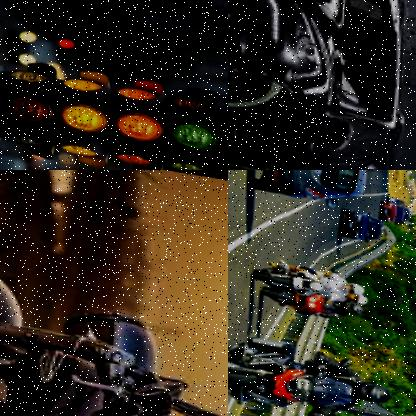bike: (0, 247, 228, 416), (228, 323, 353, 416), (246, 255, 342, 308), (252, 285, 338, 319)
car: (228, 0, 416, 170), (240, 170, 374, 207), (334, 203, 387, 241), (377, 196, 401, 224)
